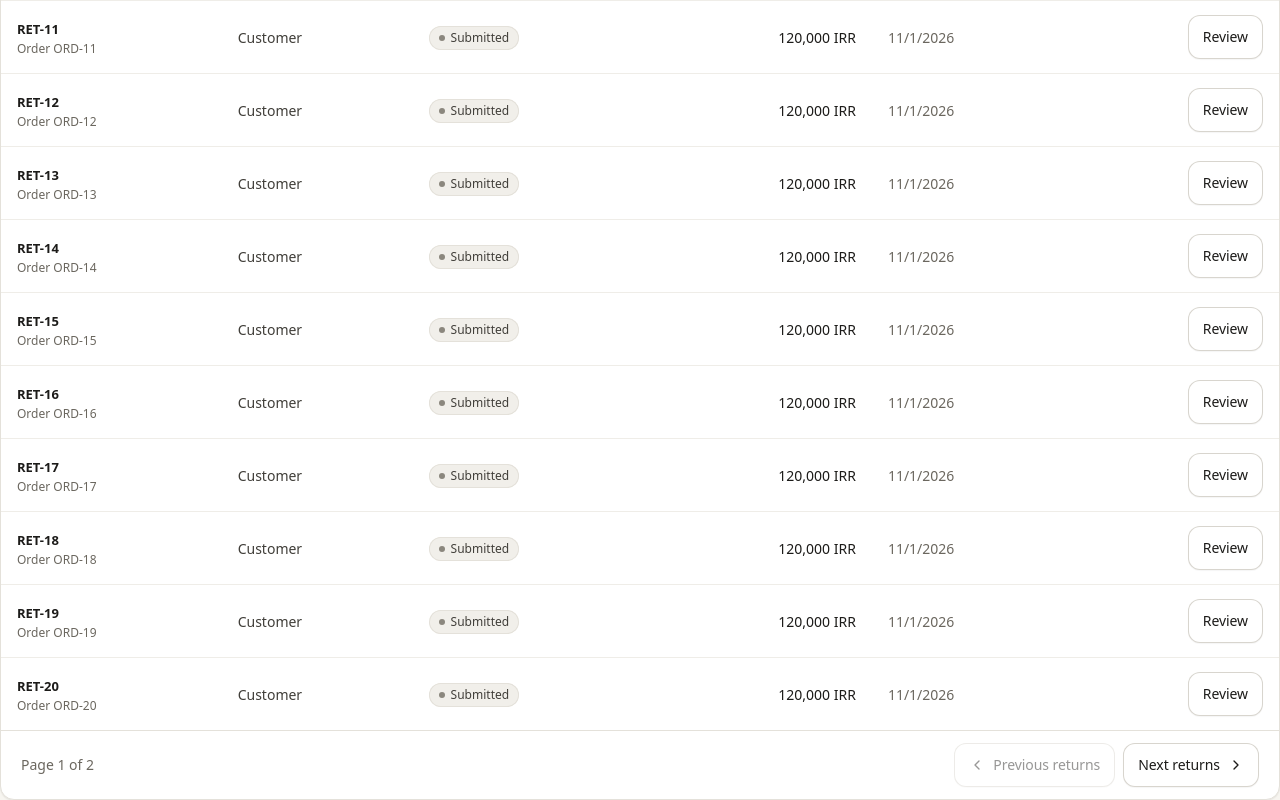
admin-returns return pagination › retires an older page response when navigating back before it completes
This screenshot has width=1280, height=800.
(page scrolled)
Click the button "Next returns".
click(1191, 765)  # box top-left (1123, 743), bottom-right (1259, 787)
(page scrolled)
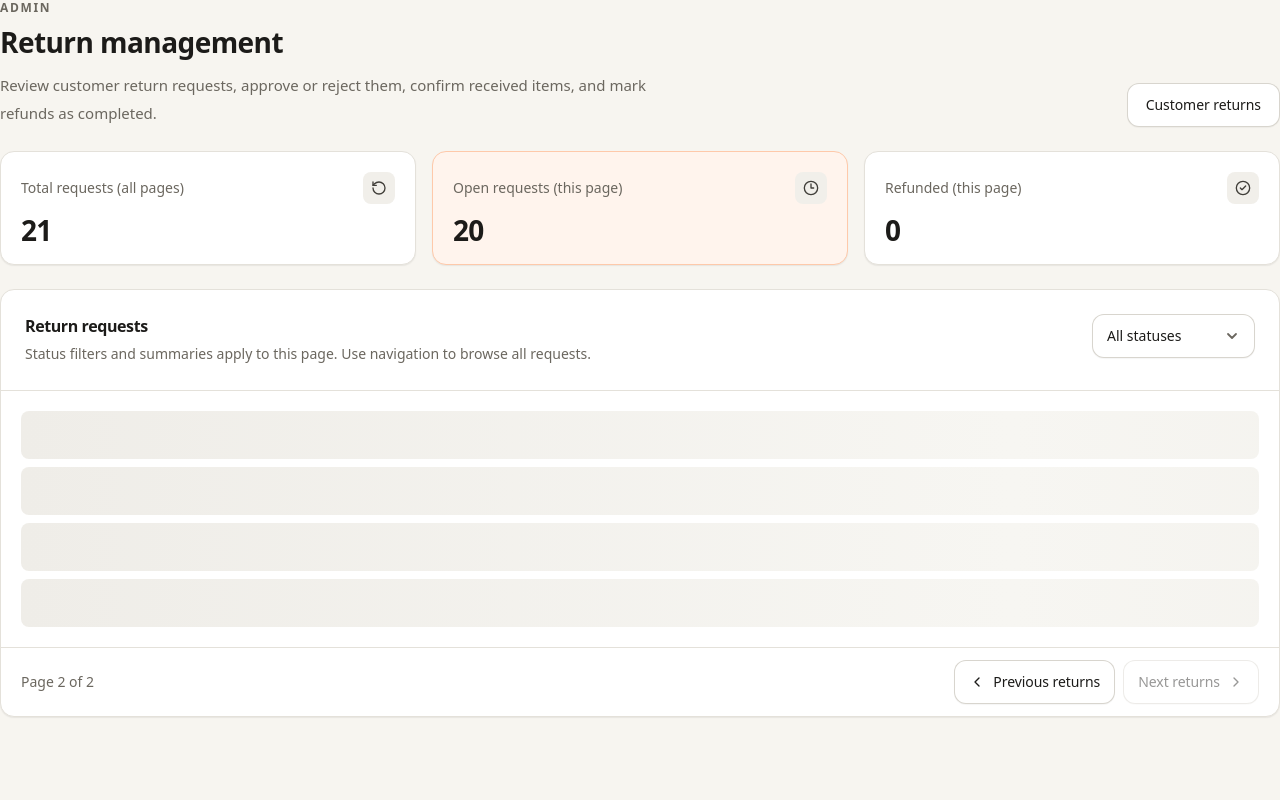
Click the button "Previous returns".
click(1035, 682)  # box top-left (954, 660), bottom-right (1115, 704)
(page scrolled)
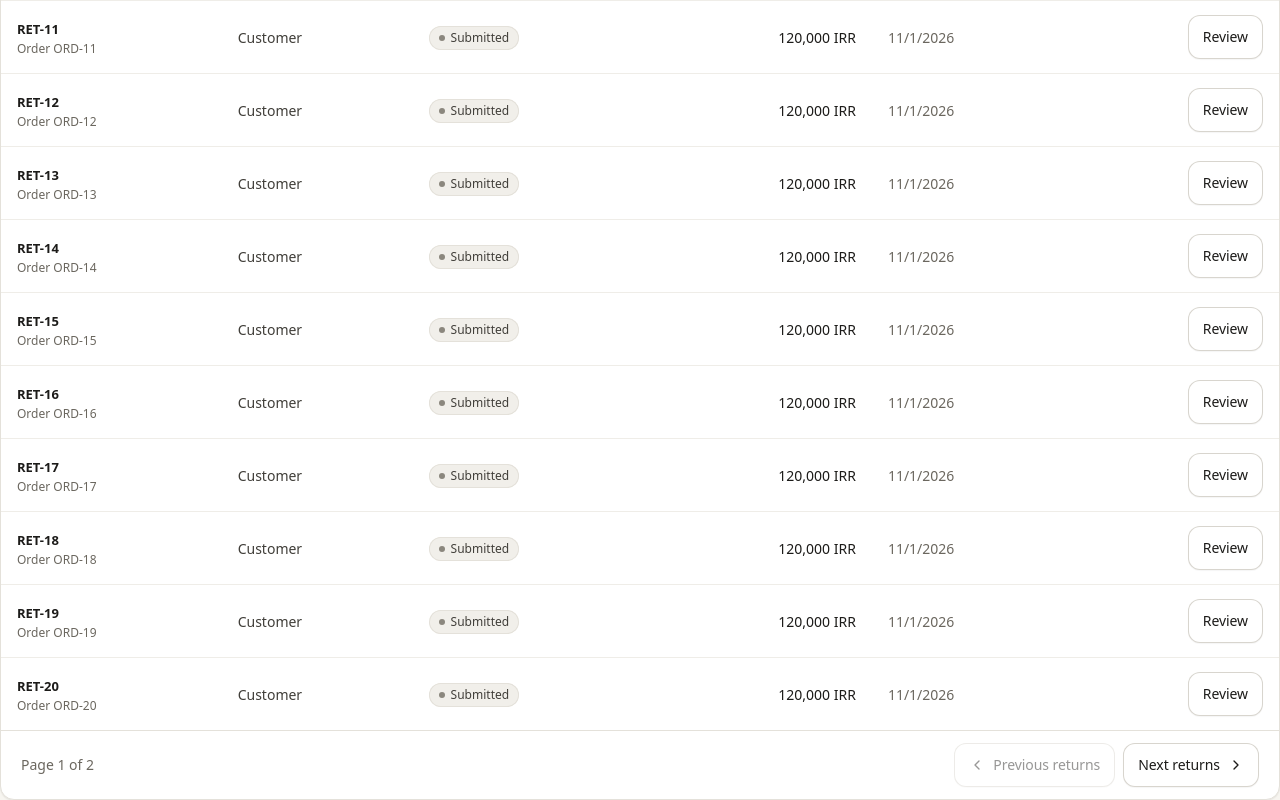
Check: the text "Page 1 of 2" is shown, box top-left (21, 755), bottom-right (94, 775)
